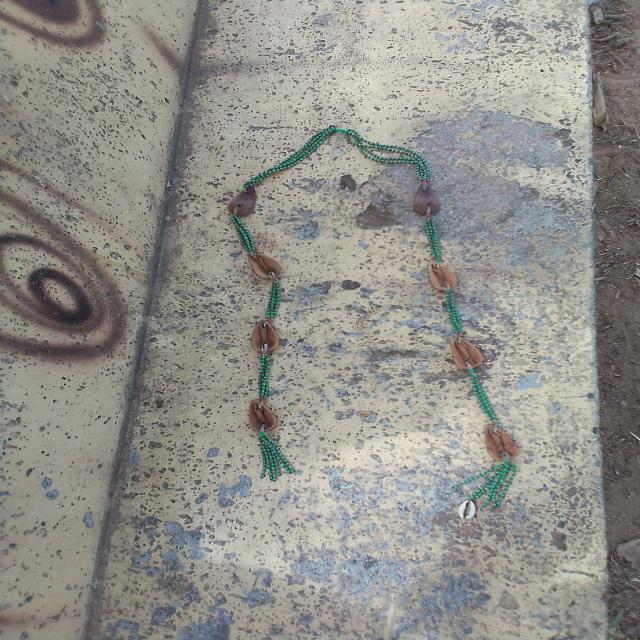facedown: (226, 180, 262, 222), (408, 182, 444, 218)
faceup: (481, 422, 521, 464), (247, 318, 284, 356), (447, 337, 487, 372), (241, 398, 279, 434), (243, 250, 286, 281), (424, 261, 463, 293)
